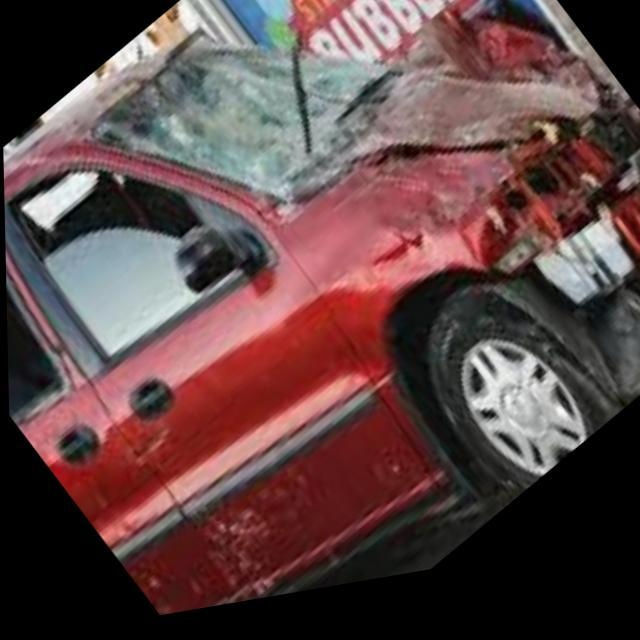crash: (282, 28, 640, 437)
glass shatter: (92, 47, 384, 211)
